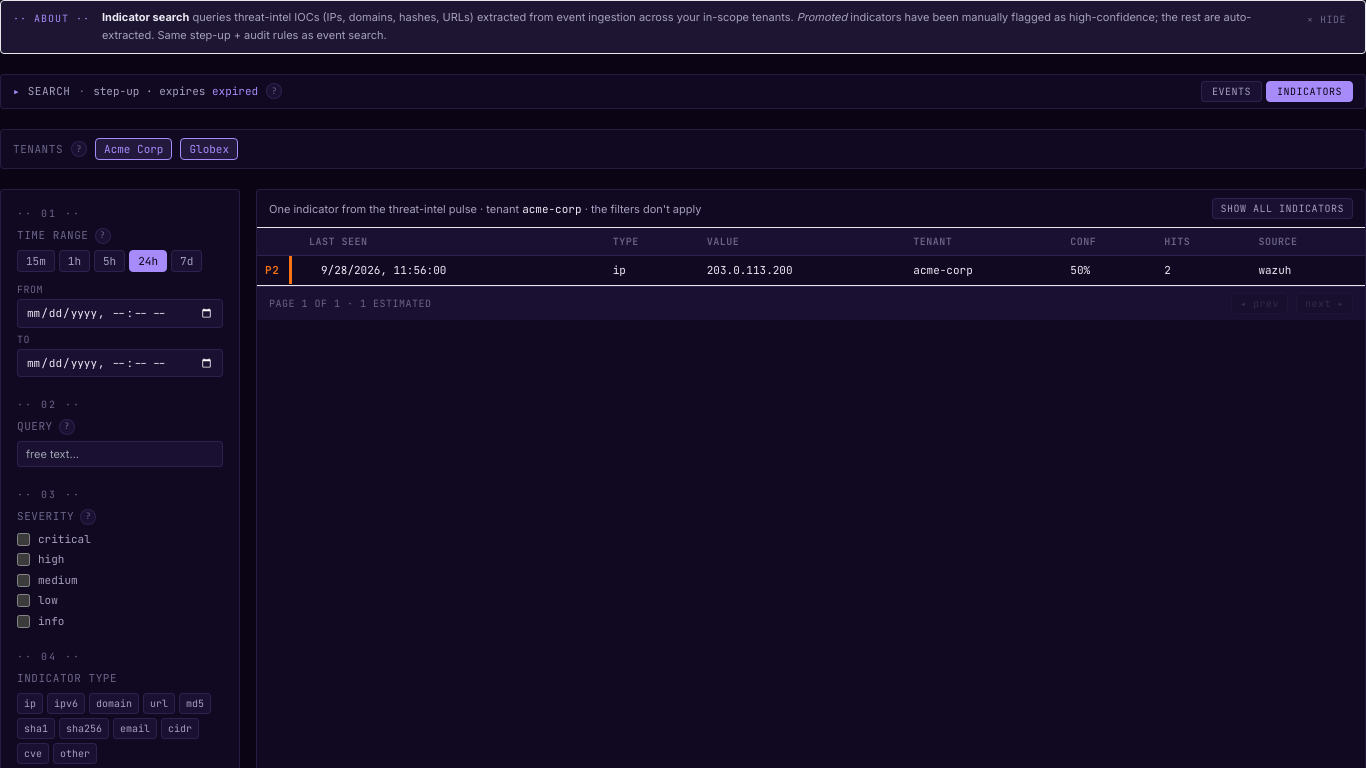
Scenario: indicator deep link from the threat-intel pulse › 'show all indicators' drops the row filter
Expected: the text "203.0.113.200" is shown, [695,256,901,285]
Click the button "show all indicators": coordinates (1282, 209) [1212,198,1353,219]
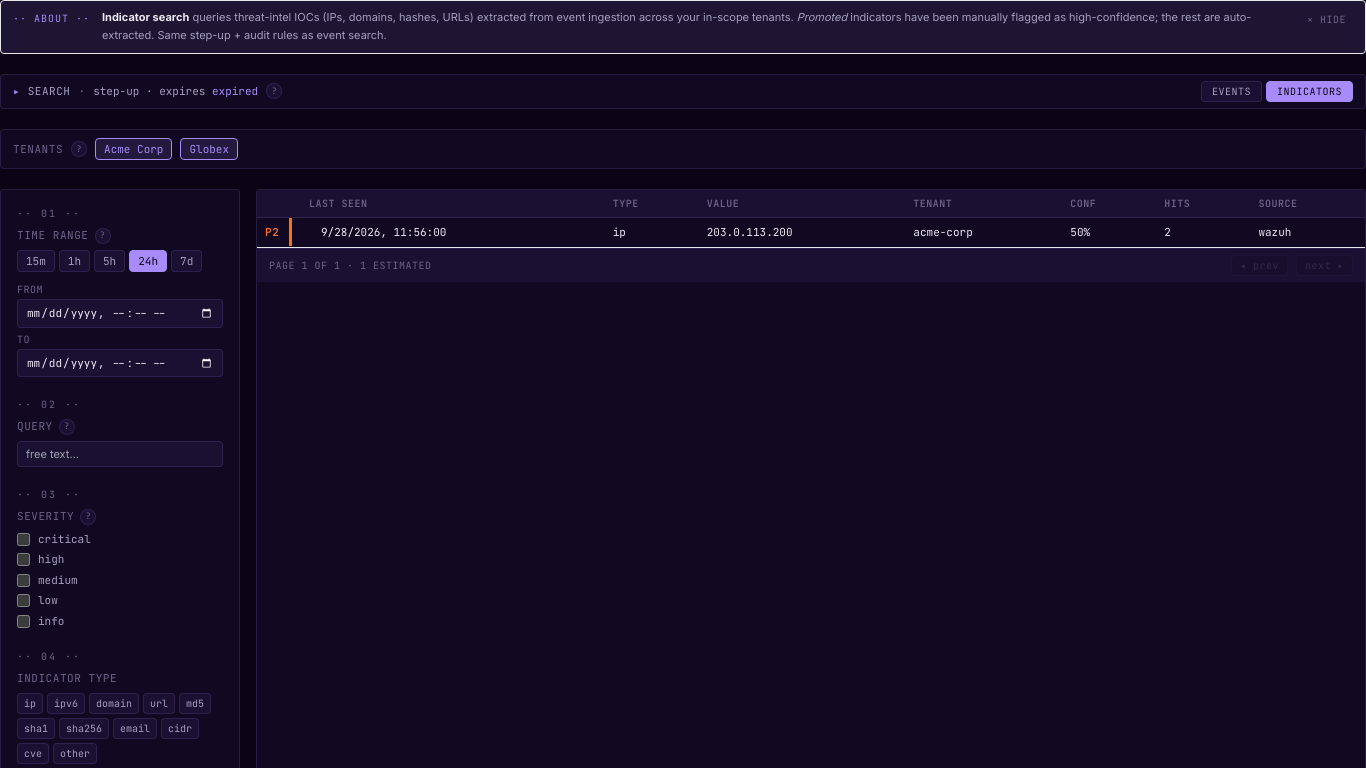
Now the text "One indicator from the threat-intel pulse" is gone
